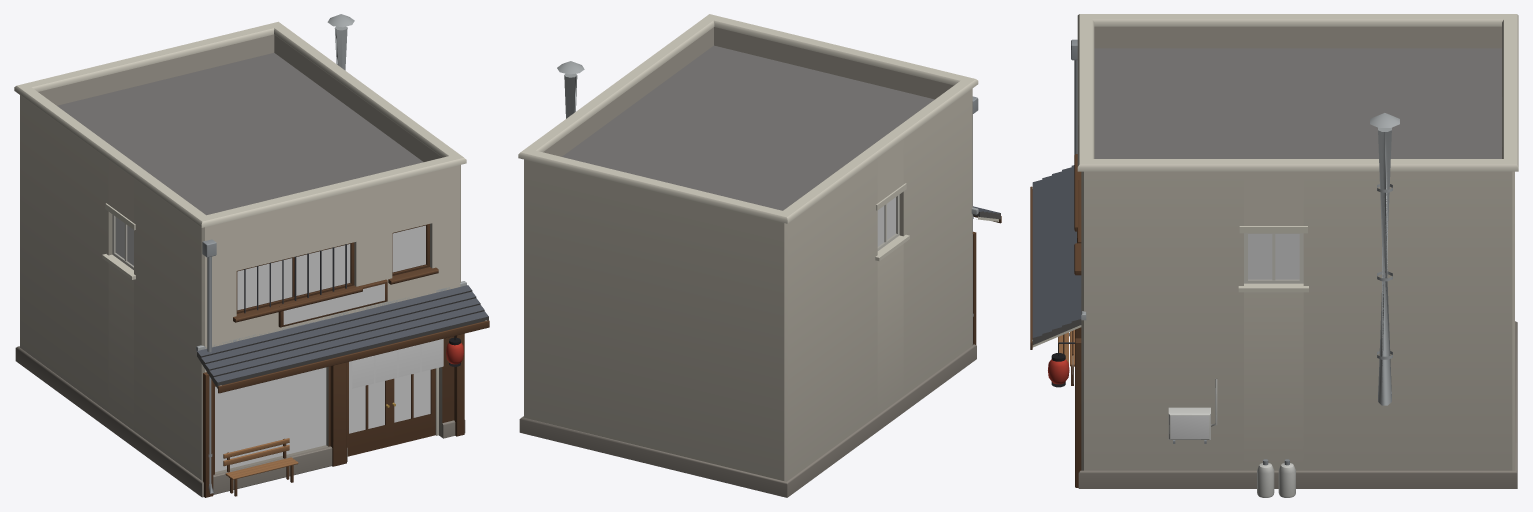
File: ShopNoodle.fbx
3 renders of one model, left to right at view 1: azimuth 30°, elevation 25°; view 2: azimuth 150°, elevation 25°; view 3: azimuth 270°, elevation 25°, orthographic. The views are drawn at different scales.
Visible parts, largest first — view 1: ShopNoodle; view 2: ShopNoodle; view 3: ShopNoodle.
Part boxes in pixels (x1,y1,x2,y2): ShopNoodle: (14, 14, 489, 497); ShopNoodle: (518, 14, 1001, 497); ShopNoodle: (1030, 14, 1518, 497).
Size of the model in its own units: 7.13 by 7.73 by 9.01.
